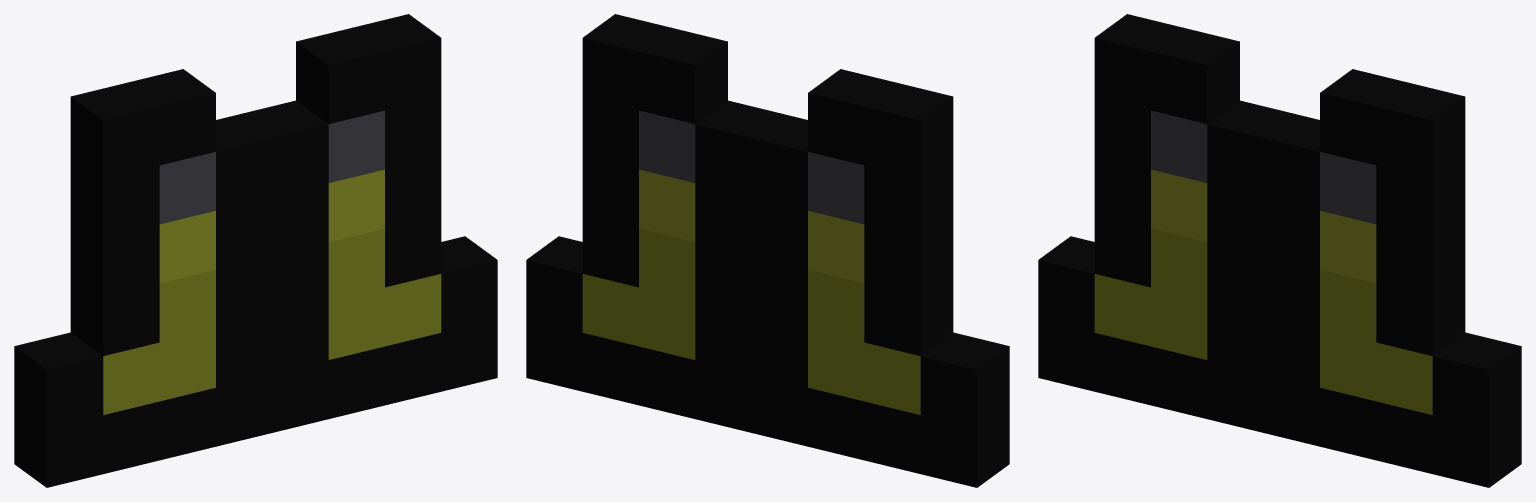
File: Military Boots.glb
3 views of the same model, side by side, from view 1: azimuth 30°, elevation 25°; view 2: azimuth 150°, elevation 25°; view 3: azimuth 330°, elevation 25° (orthographic).
Parts seen in each view (by area): view 1: generated(Clone); view 2: generated(Clone); view 3: generated(Clone).
Boxes of the visible parts, bbox=[...] form: generated(Clone): bbox=[14, 14, 497, 487]; generated(Clone): bbox=[526, 14, 1009, 487]; generated(Clone): bbox=[1038, 14, 1521, 487].
Bounding box in the file's own units: 8 × 6 × 1.
Materials: 1 (1 with a texture image).
